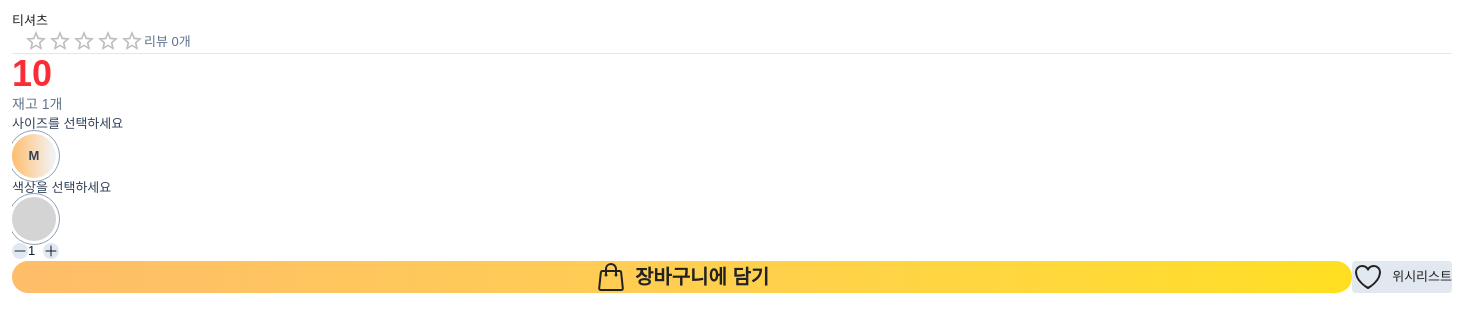
Test: 상품 정보 — 결제 중인 재고 › 담는 순간 다 잡혀 버렸으면 '품절' 이 아니라 '결제 중' 이라고 말한다
Click the button "장바구니에 담기". click: (682, 277)
box: [12,261,1352,293]
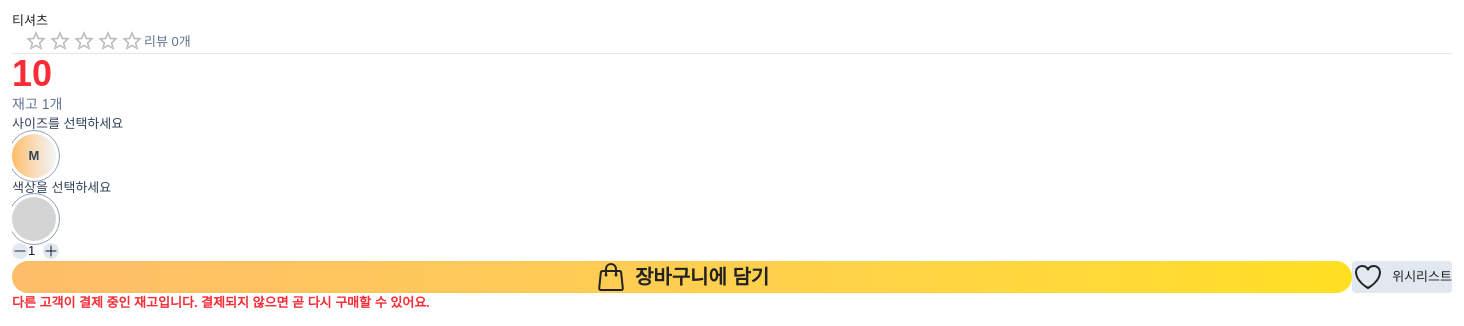
Check: the text "다른 고객이 결제 중인 재고입니다. 결제되지 않으면 곧 다시 구매할 수 있어요." is shown, box [12,295,430,310]
